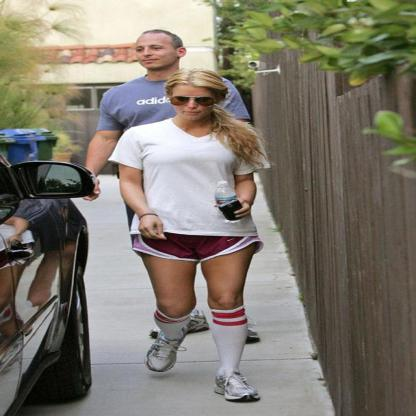face: (172, 85, 219, 122), (136, 34, 179, 70)
